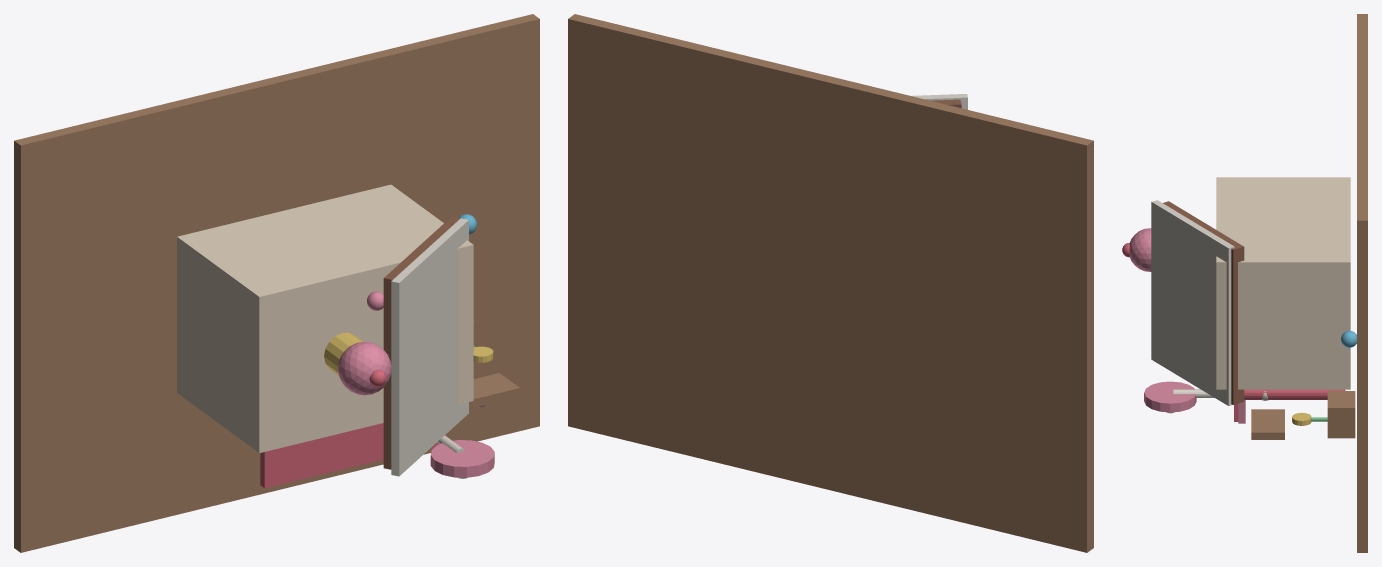
The model's file is loja_de_doces.glb.
The picture shows the model from 3 angles, left to right: view 1: azimuth 30°, elevation 25°; view 2: azimuth 150°, elevation 25°; view 3: azimuth 270°, elevation 25°; orthographic projection. The views are drawn at different scales.
Parts seen in each view (by area): view 1: Base_ground, Gingerbread_house, Icing_roof_trim, Awning_top, Chocolate_roof, Ice_cream_scoop, Lollipop_head, Sign_board, Cone_chimney; view 2: Base_ground; view 3: Gingerbread_house, Icing_roof_trim, Base_ground, Chocolate_roof, Planter_pot, Lollipop_head, Sign_board, Candy_cane_pillar, Ice_cream_scoop.
Boxes of the visible parts, x1,y1,x2,y2 form: Base_ground: (14,14,539,552); Gingerbread_house: (177,184,473,452); Icing_roof_trim: (391,218,468,476); Awning_top: (260,423,446,488); Chocolate_roof: (383,216,460,469); Ice_cream_scoop: (338,342,391,395); Lollipop_head: (430,440,494,477); Sign_board: (469,373,520,408); Cone_chimney: (324,332,363,374); Base_ground: (568,14,1093,552); Gingerbread_house: (1216,177,1350,389); Icing_roof_trim: (1151,200,1234,405); Base_ground: (1357,14,1367,552); Chocolate_roof: (1163,201,1244,404); Planter_pot: (1327,391,1355,438); Lollipop_head: (1144,381,1196,412); Sign_board: (1251,409,1284,439); Candy_cane_pillar: (1244,389,1344,399); Ice_cream_scoop: (1129,228,1151,271).
Bounding box in the file's own units: 8 × 6 × 4.02.
